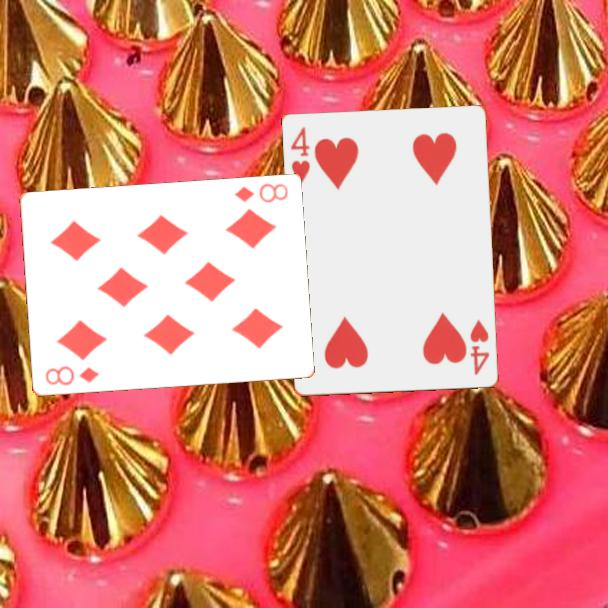d08: (231, 180, 291, 206), (42, 363, 101, 389)
h04: (288, 124, 313, 187), (467, 316, 492, 378)
